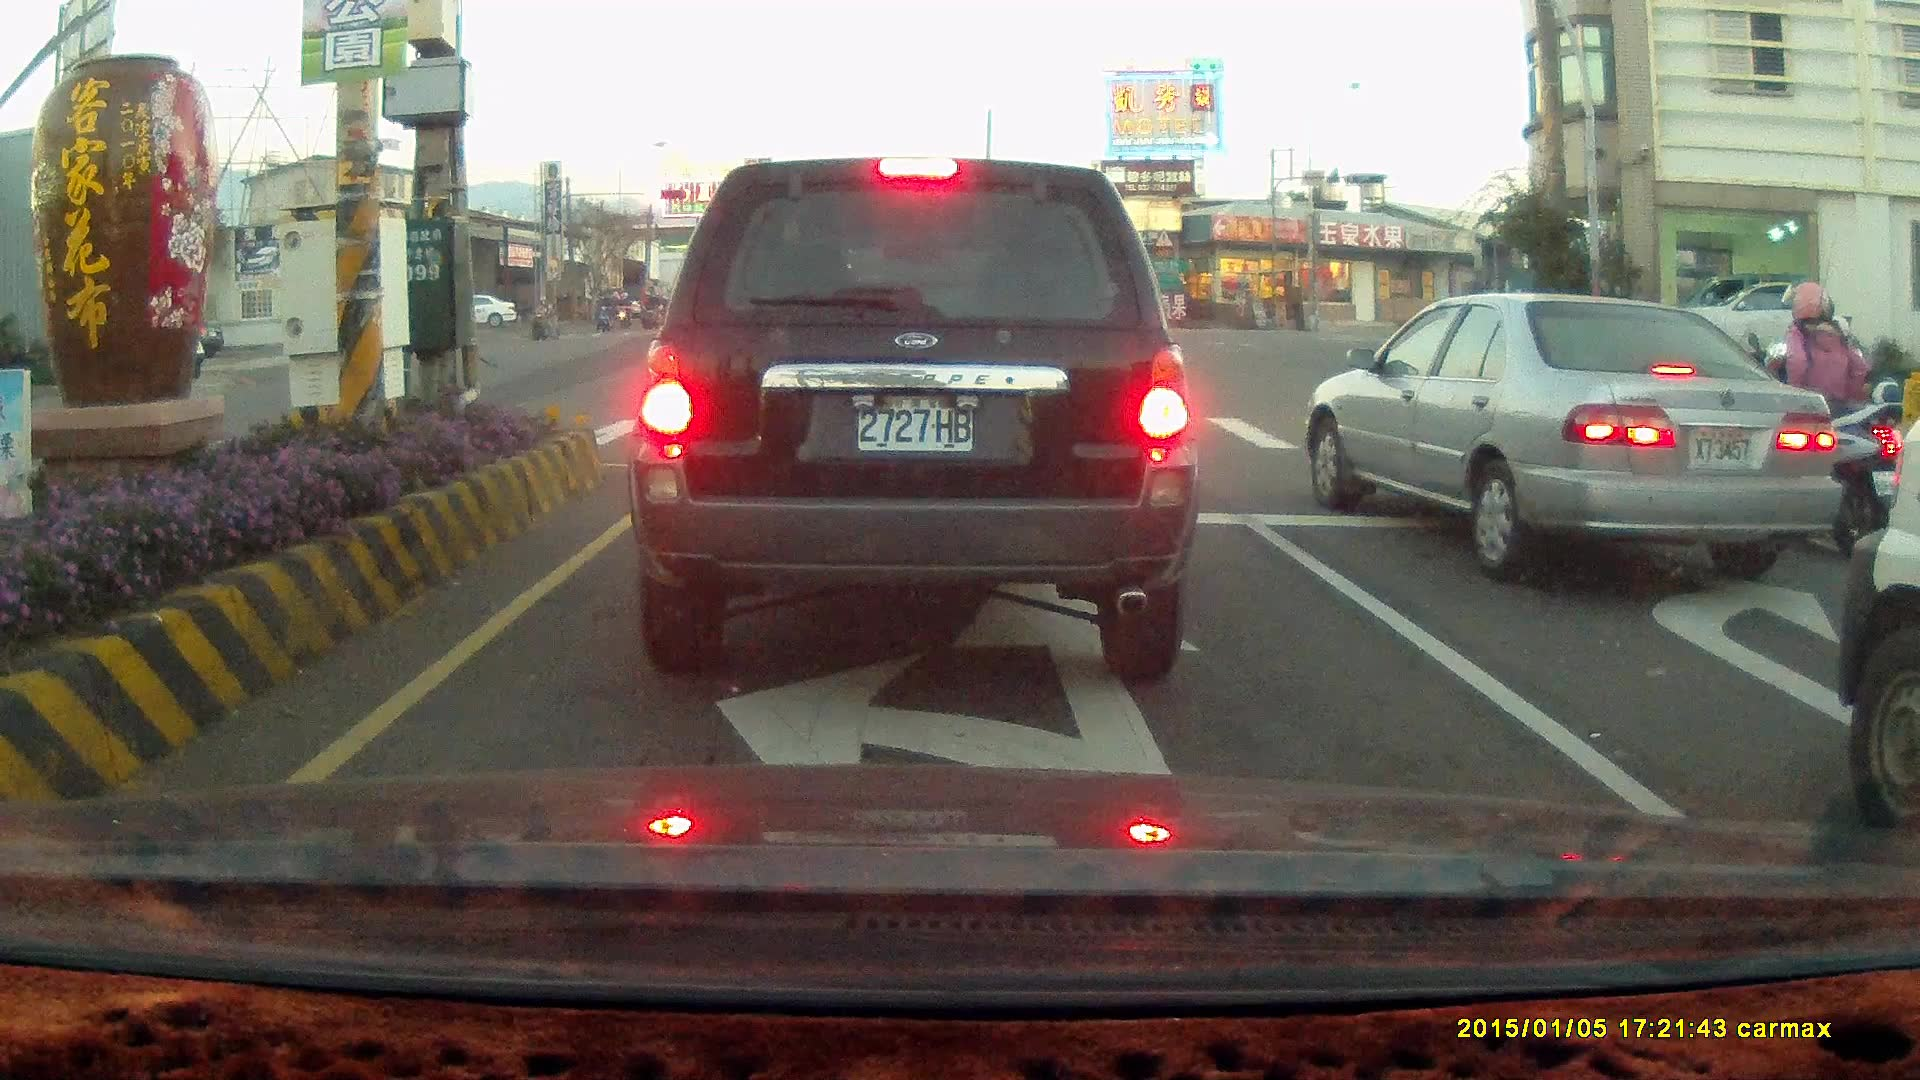rider: (1694, 274, 1915, 554), (527, 290, 562, 338), (593, 291, 614, 332), (619, 292, 640, 328), (643, 289, 664, 326)
vehicle: (625, 154, 1198, 685), (1302, 290, 1840, 583), (1315, 293, 1847, 579), (1827, 418, 1920, 847), (1652, 274, 1850, 368), (1668, 275, 1823, 373)
